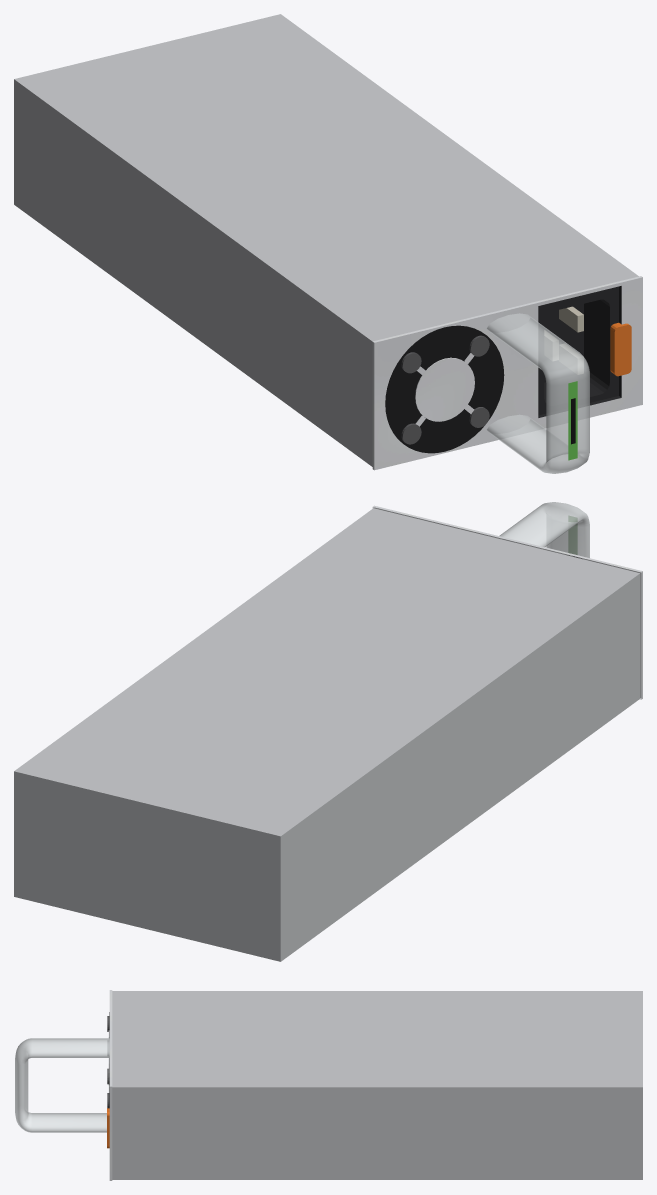
Rendered from DELL-PSU-86MM-2400W.glb.
The picture shows the model from 3 angles, top to bottom: view 1: azimuth 30°, elevation 25°; view 2: azimuth 150°, elevation 25°; view 3: azimuth 270°, elevation 25°; orthographic projection. The views are drawn at different scales.
Visible parts, largest first — view 1: PSU, PSU_Handle; view 2: PSU, PSU_Handle; view 3: PSU, PSU_Handle.
Boxes of the visible parts, x1,y1,x2,y2 form: PSU: (14, 14, 642, 470); PSU_Handle: (487, 313, 589, 473); PSU: (14, 505, 642, 961); PSU_Handle: (499, 502, 589, 557); PSU: (107, 990, 642, 1180); PSU_Handle: (15, 1038, 109, 1132).
Bounding box in the file's own units: 0.086 × 0.039 × 0.2362.
10 materials, 1 textured.
